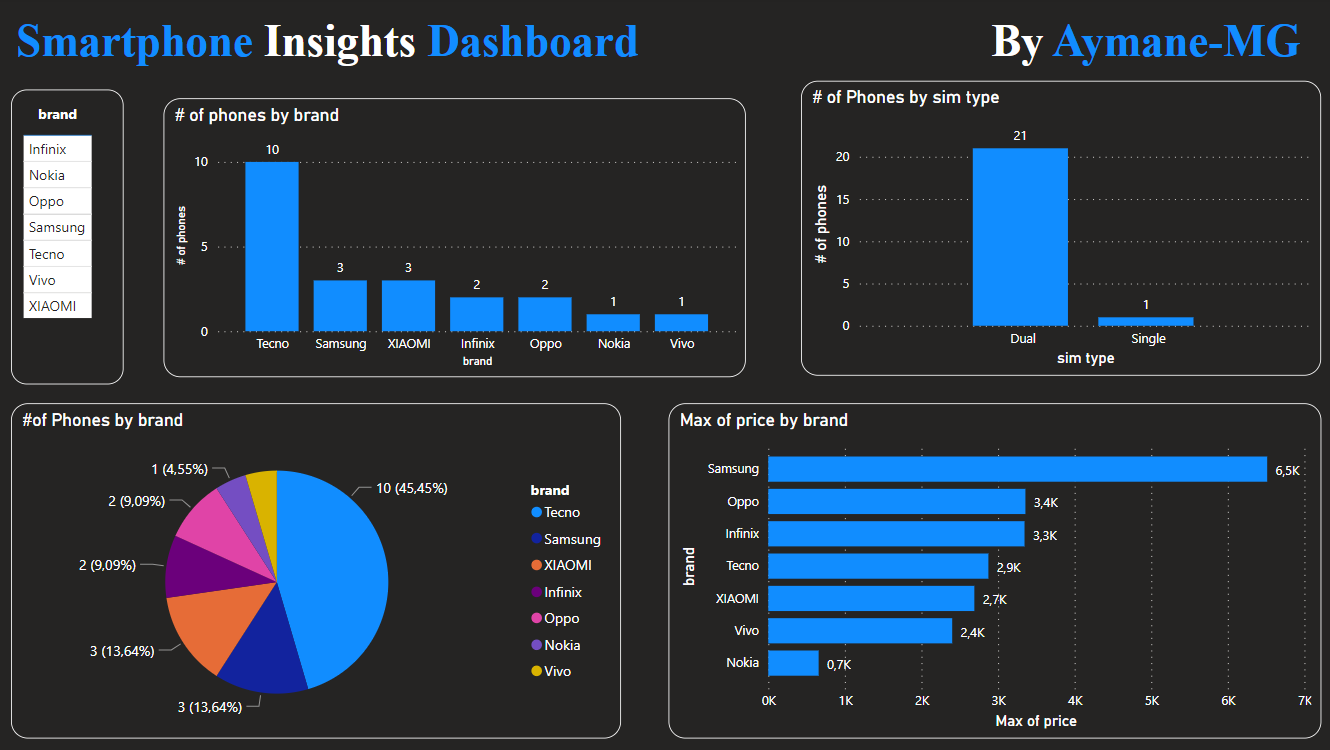

What the dashboard file says about the page in this screenshot:
{"tool":"powerbi","page":{"name":"Page 1","canvas":[1280,720],"ordinal":0},"visuals":[{"type":"clusteredColumnChart","title":"# of Phones by sim type","fields":{"Y":["CountNonNull(public Phone (2).brand)"],"Category":["public Phone (2).sim_type"]},"box":[766.4,79.7,495.1,280.9],"z":0},{"type":"pieChart","title":"#of Phones by brand","fields":{"Category":["public Phone (2).brand"],"Y":["CountNonNull(public Phone (2).brand)"]},"box":[14.3,386.8,580.8,318.9],"z":1000},{"type":"barChart","fields":{"Category":["public Phone (2).brand"],"Y":["Max(public Phone (2).price)"]},"box":[640.3,386.8,621.2,318.9],"z":2000},{"type":"clusteredColumnChart","fields":{"Category":["public Phone (2).brand"],"Y":["CountNonNull(public Phone (2).brand)"]},"box":[159.5,96.4,554.6,265.4],"z":3000},{"type":"textbox","box":[14.3,11.9,712.9,63.1],"z":4000},{"type":"tableEx","fields":{"Values":["public Phone (2).brand"]},"box":[14.3,88.1,107.1,280.9],"z":5000},{"type":"textbox","box":[931.8,11.9,329.7,63.1],"z":6001}]}

Visuals, with their boxes in screenshot pixels (x1, y1, x2, y2), scaled from the page's 1280x720 canvas onto the 1330x750 screenshot:
"# of Phones by sim type" clusteredColumnChart: <region>796, 83, 1311, 376</region>
"#of Phones by brand" pieChart: <region>15, 403, 618, 735</region>
barChart - public Phone (2).brand x Max(public Phone (2).price): <region>665, 403, 1311, 735</region>
clusteredColumnChart - public Phone (2).brand x CountNonNull(public Phone (2).brand): <region>166, 100, 742, 377</region>
textbox: <region>15, 12, 756, 78</region>
tableEx - public Phone (2).brand: <region>15, 92, 126, 384</region>
textbox: <region>968, 12, 1311, 78</region>
